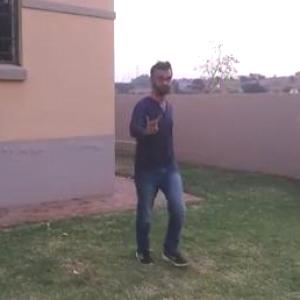takeoff-hand: (137, 110, 163, 138)
